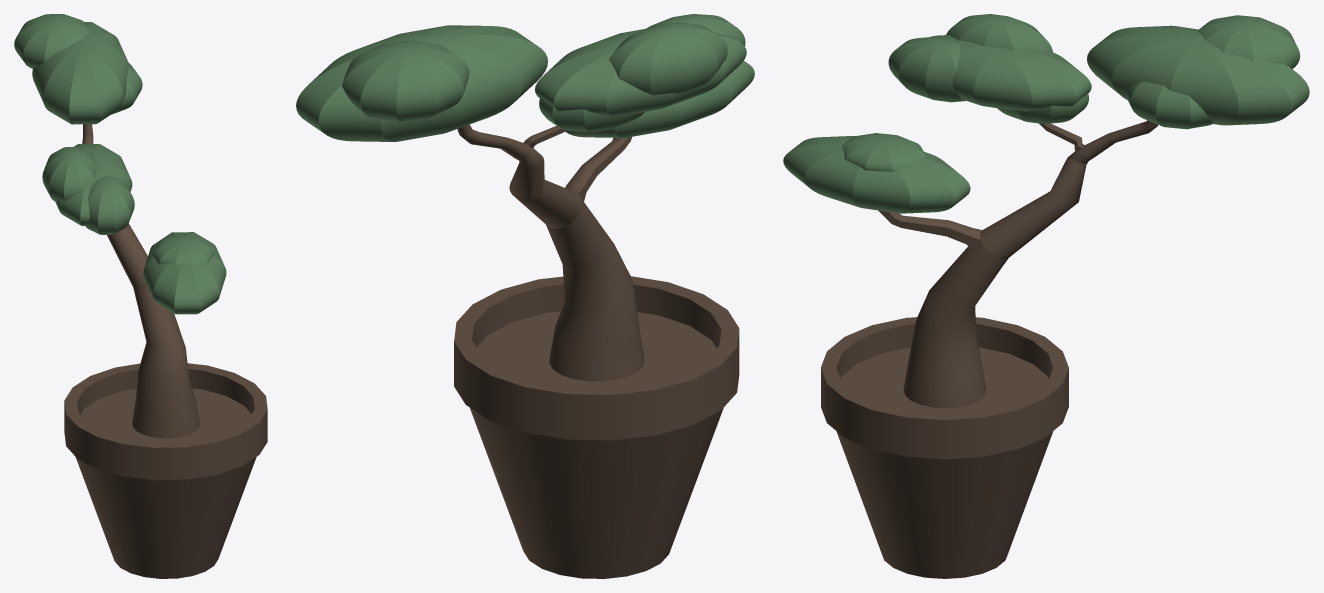
The model's file is low_poly_potted_bonsai.fbx.
3 views of the same model, side by side, from view 1: azimuth 30°, elevation 25°; view 2: azimuth 150°, elevation 25°; view 3: azimuth 270°, elevation 25° (orthographic). The views are drawn at different scales.
Parts seen in each view (by area): view 1: Potted_Tree, pSphere1, pSphere3, pSphere5, pSphere8, pSphere7, pSphere2, pSphere9, pSphere4; view 2: Potted_Tree, pSphere1, pSphere5, pSphere2, pSphere7, pSphere3, pSphere6, pSphere8; view 3: Potted_Tree, pSphere1, pSphere3, pSphere2, pSphere8, pSphere5, pSphere7, pSphere4, pSphere9, pSphere6.
Part boxes in pixels (x1=…): Potted_Tree: x1=64, y1=124, x2=267, y2=578; pSphere1: x1=32, y1=22, x2=130, y2=124; pSphere3: x1=143, y1=232, x2=226, y2=314; pSphere5: x1=14, y1=14, x2=91, y2=68; pSphere8: x1=85, y1=176, x2=134, y2=234; pSphere7: x1=42, y1=147, x2=97, y2=201; pSphere2: x1=55, y1=144, x2=132, y2=225; pSphere9: x1=152, y1=234, x2=214, y2=265; pSphere4: x1=111, y1=63, x2=142, y2=114; Potted_Tree: x1=454, y1=124, x2=739, y2=578; pSphere1: x1=296, y1=25, x2=547, y2=141; pSphere5: x1=342, y1=40, x2=469, y2=122; pSphere2: x1=535, y1=28, x2=746, y2=115; pSphere7: x1=609, y1=22, x2=727, y2=95; pSphere3: x1=545, y1=61, x2=754, y2=137; pSphere6: x1=539, y1=98, x2=644, y2=132; pSphere8: x1=646, y1=14, x2=745, y2=46; Potted_Tree: x1=821, y1=120, x2=1158, y2=578; pSphere1: x1=1087, y1=25, x2=1309, y2=125; pSphere3: x1=783, y1=136, x2=970, y2=213; pSphere2: x1=930, y1=35, x2=1091, y2=111; pSphere8: x1=888, y1=36, x2=965, y2=102; pSphere5: x1=1197, y1=15, x2=1300, y2=68; pSphere7: x1=946, y1=14, x2=1052, y2=52; pSphere4: x1=1126, y1=81, x2=1213, y2=129; pSphere9: x1=842, y1=133, x2=926, y2=171; pSphere6: x1=997, y1=93, x2=1088, y2=123.
Bounding box in the file's own units: 494 × 1098 × 976.
